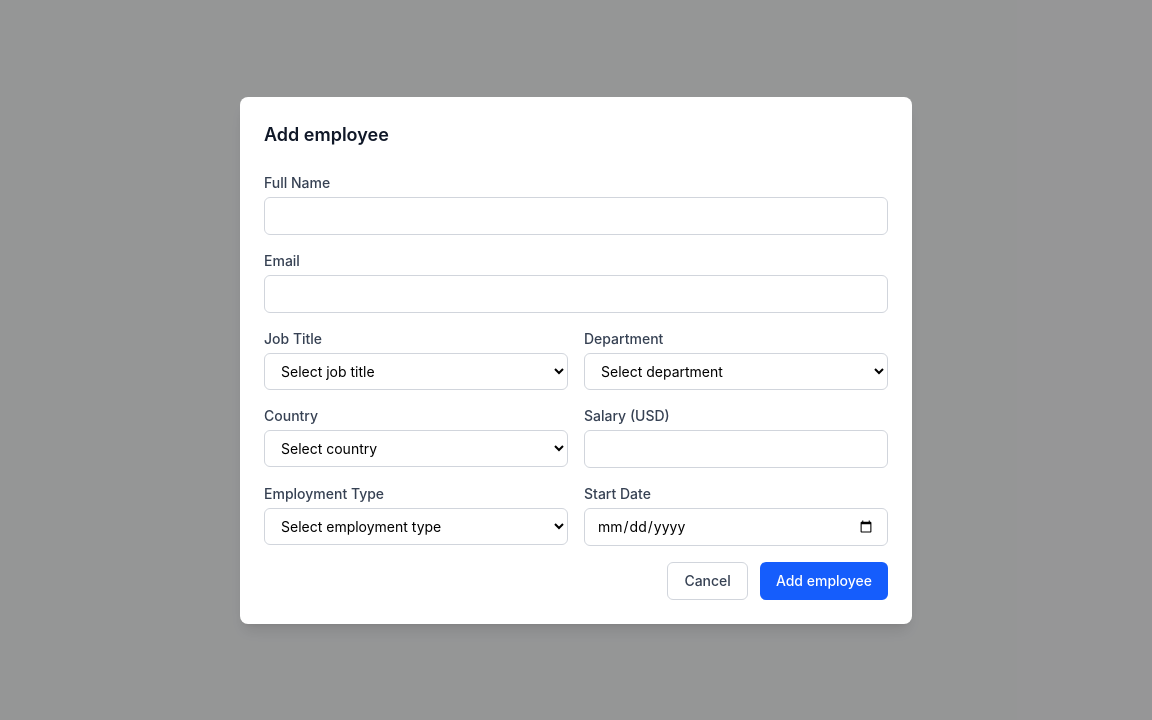
it: EmployeeForm › clears a field error when the field is updated
Click the button "Add employee" at (824, 580), box [760,562,888,600]
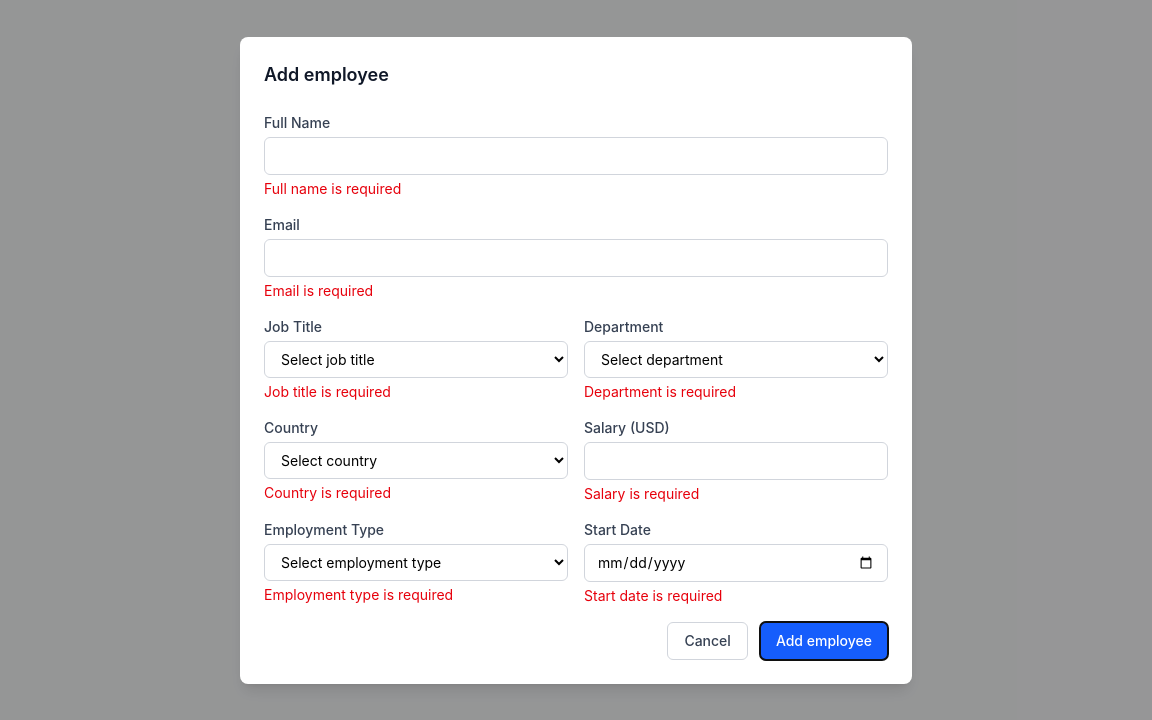
Expected: the text "Full name is required" is shown, [264,180,401,196]
Type "Updated Name" into the field labelled "Full Name" at (576, 156), box [264,136,888,174]
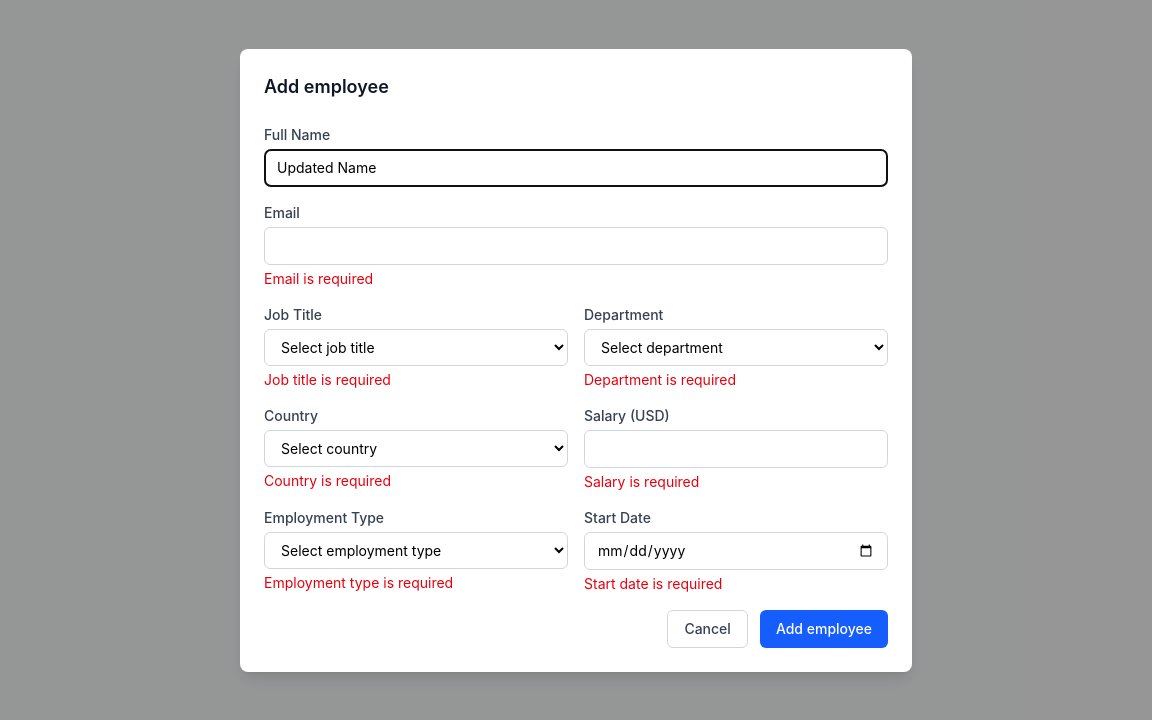
Expected: the text "Full name is required" is gone
